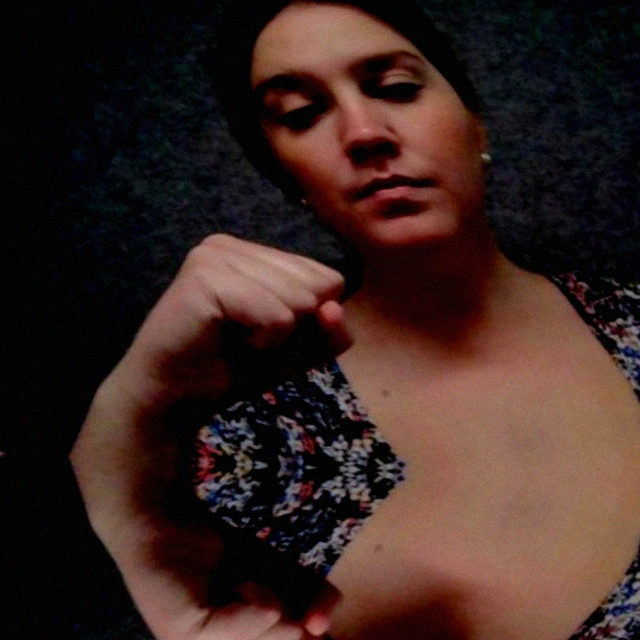Rock: (57, 469, 405, 640)
